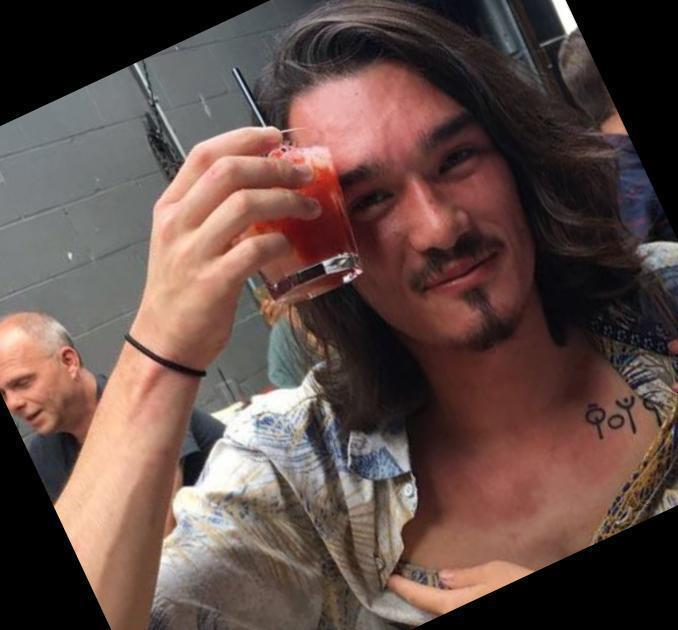Drunk: (308, 87, 525, 322)
